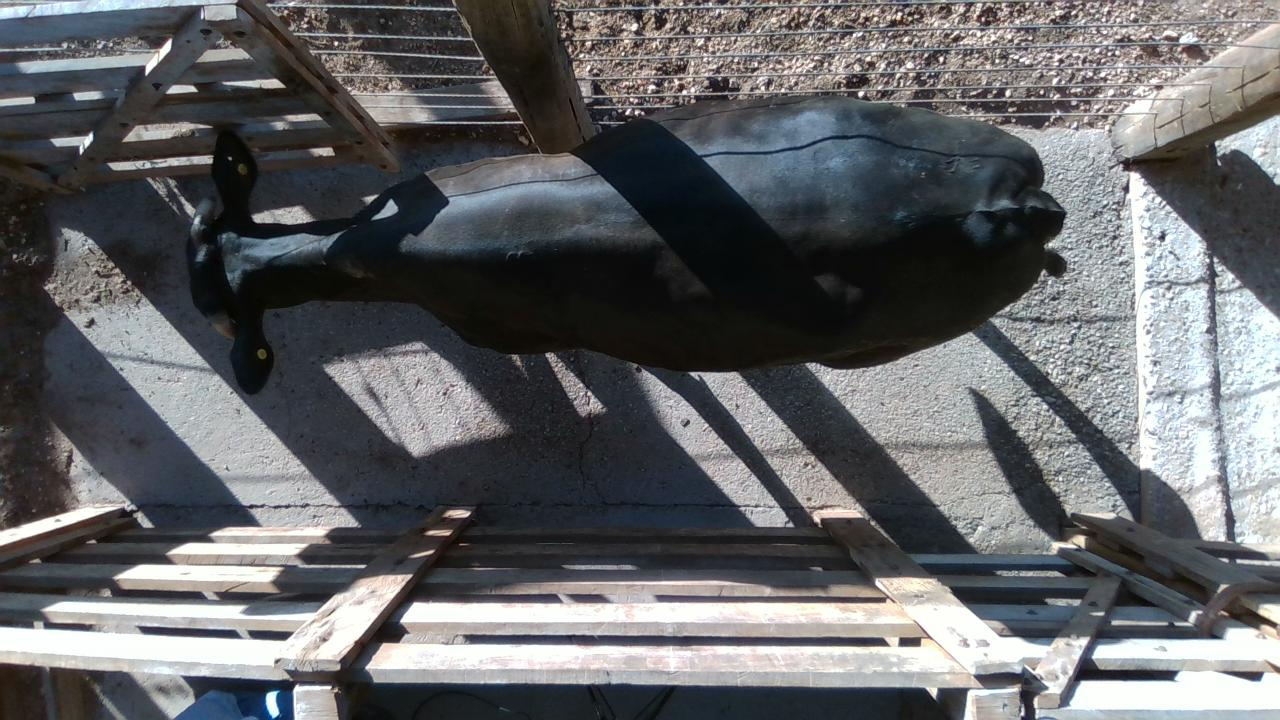cattle: (184, 93, 1068, 394)
